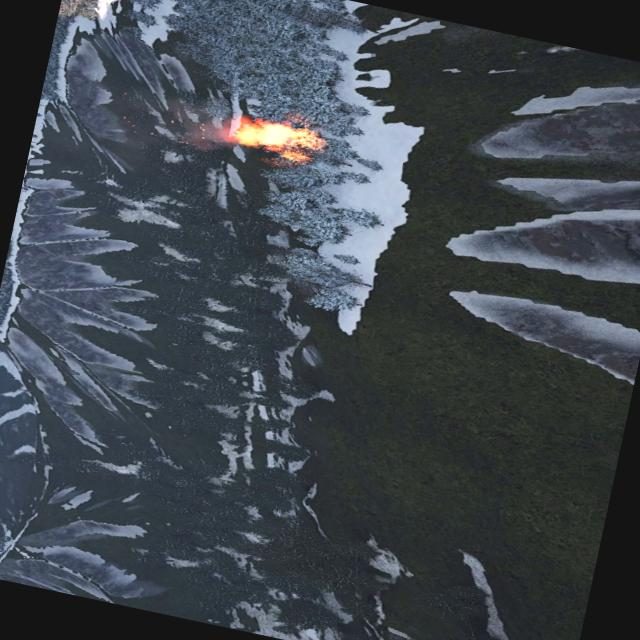fire: (230, 110, 324, 166)
smoke: (114, 87, 244, 156)
